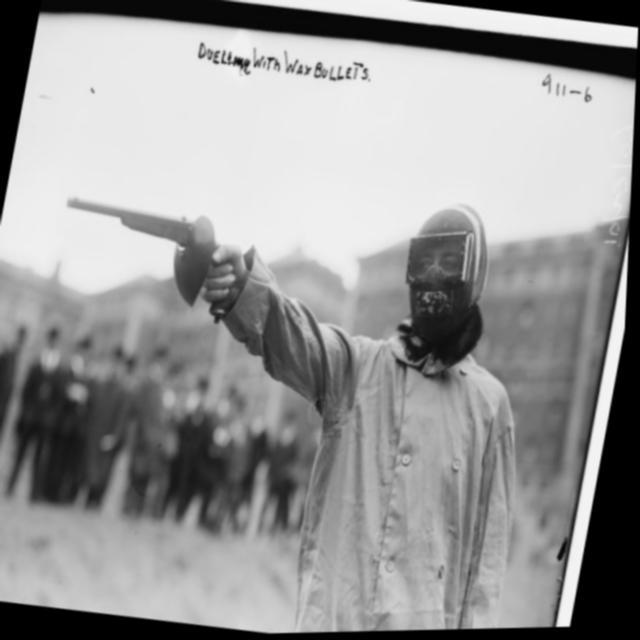weapon: (50, 192, 246, 324)
